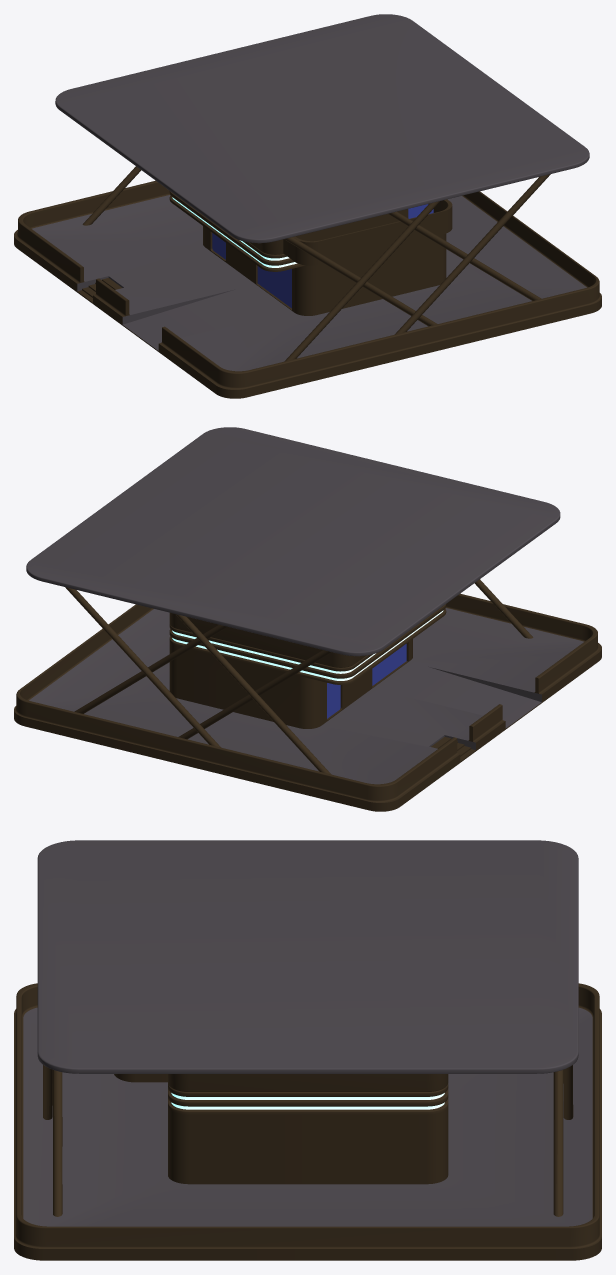
File: SM_B_i0_Base_Flor.fbx
The picture shows the model from 3 angles, top to bottom: view 1: azimuth 30°, elevation 25°; view 2: azimuth 150°, elevation 25°; view 3: azimuth 270°, elevation 25°; orthographic projection. The views are drawn at different scales.
Visible parts, largest first — view 1: Bild0_Base_Flor; view 2: Bild0_Base_Flor; view 3: Bild0_Base_Flor.
Boxes of the visible parts, x1,y1,x2,y2 form: Bild0_Base_Flor: (14,14,601,398); Bild0_Base_Flor: (14,427,601,811); Bild0_Base_Flor: (14,840,601,1260).
Size of the model in its own units: 1996 by 719 by 1998.
